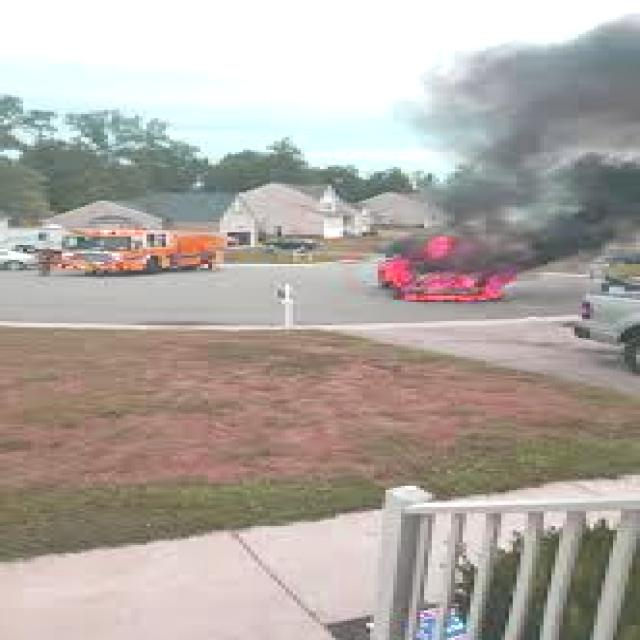fire: (358, 232, 540, 313)
